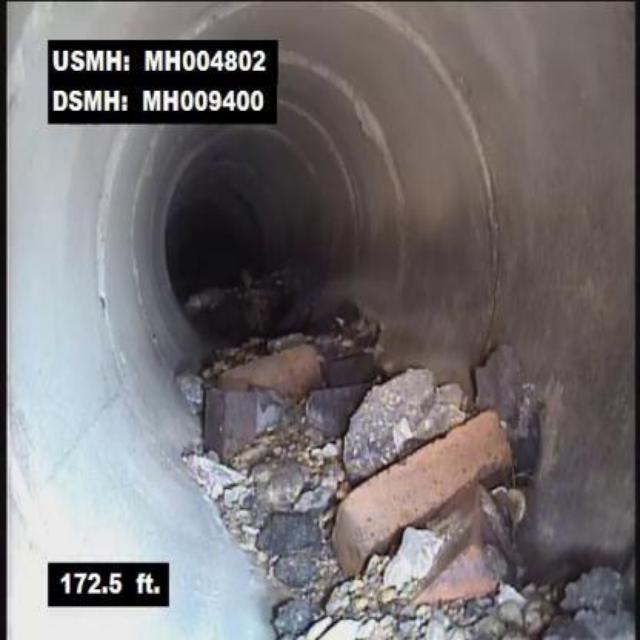Obstacle: (169, 360, 638, 638)
